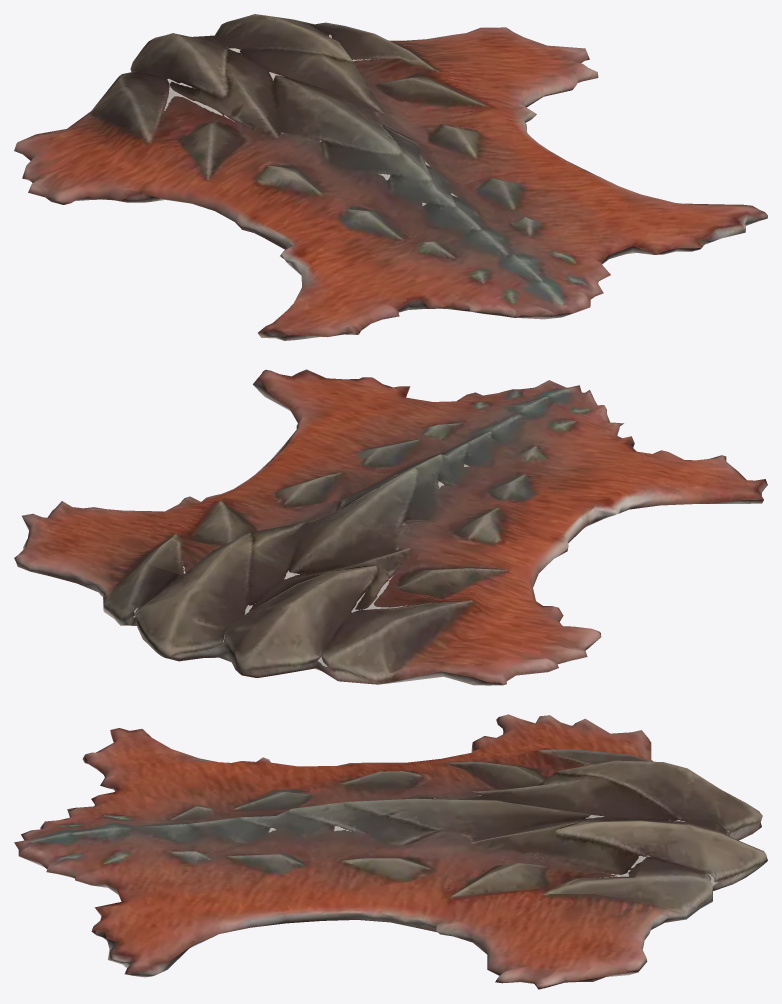
The picture shows the model from 3 angles, top to bottom: view 1: azimuth 30°, elevation 25°; view 2: azimuth 150°, elevation 25°; view 3: azimuth 270°, elevation 25°; orthographic projection.
Visible parts, largest first — view 1: SM_Dragonwolf_Hide_01_LOD0; view 2: SM_Dragonwolf_Hide_01_LOD0; view 3: SM_Dragonwolf_Hide_01_LOD0.
Boxes of the visible parts, x1=… form: SM_Dragonwolf_Hide_01_LOD0: x1=14, y1=14, x2=767, y2=340; SM_Dragonwolf_Hide_01_LOD0: x1=14, y1=369, x2=767, y2=685; SM_Dragonwolf_Hide_01_LOD0: x1=14, y1=714, x2=767, y2=989.
Size of the model in its own units: 0.6872 by 0.0866 by 0.8048.
1 material, 1 textured.
